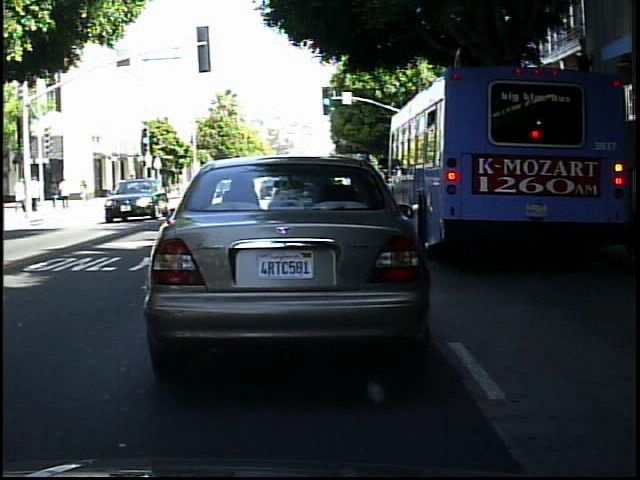person: (58, 173, 75, 213), (123, 170, 141, 204), (21, 174, 38, 208), (47, 176, 62, 213), (31, 173, 44, 213), (78, 173, 92, 205), (14, 173, 24, 216)
